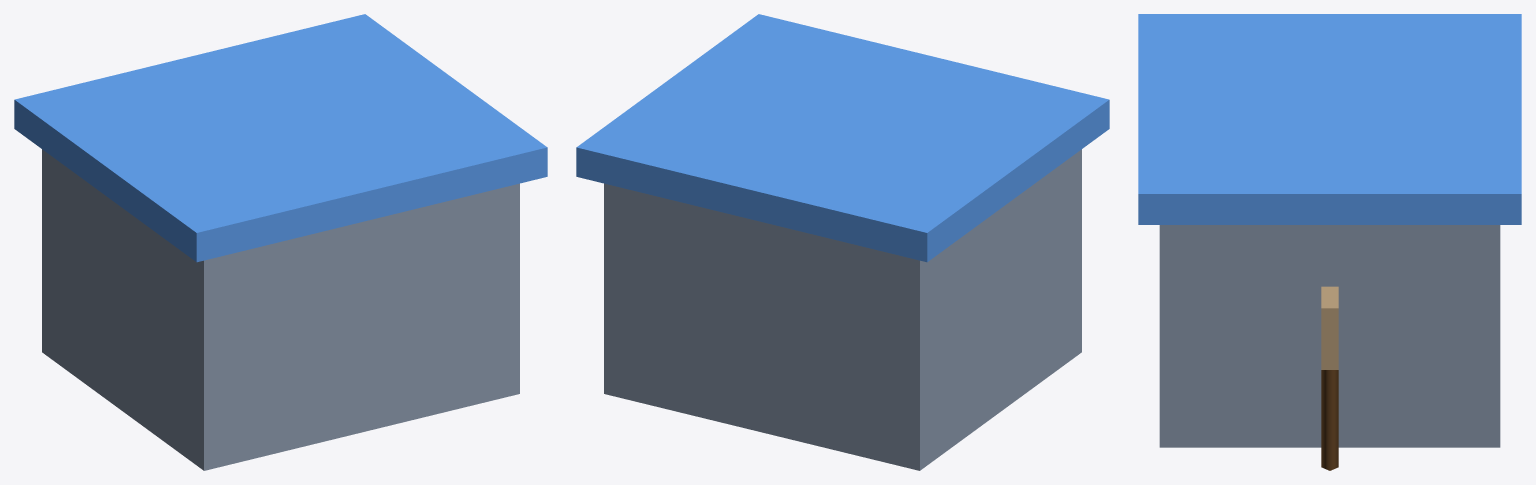
File: barracks.glb
3 views of the same model, side by side, from view 1: azimuth 30°, elevation 25°; view 2: azimuth 150°, elevation 25°; view 3: azimuth 270°, elevation 25° (orthographic). The views are drawn at different scales.
Parts seen in each view (by area): view 1: node_0, node_1; view 2: node_0, node_1; view 3: node_1, node_0, node_2, node_3.
Part boxes in pixels (x1,y1,x2,y2): node_0: (42, 149, 519, 470); node_1: (14, 14, 547, 262); node_0: (604, 149, 1081, 470); node_1: (576, 14, 1109, 262); node_1: (1138, 14, 1521, 224); node_0: (1159, 225, 1500, 447); node_2: (1321, 370, 1338, 470); node_3: (1321, 286, 1338, 369).
Size of the model in its own units: 0.56 by 0.34 by 0.45.
